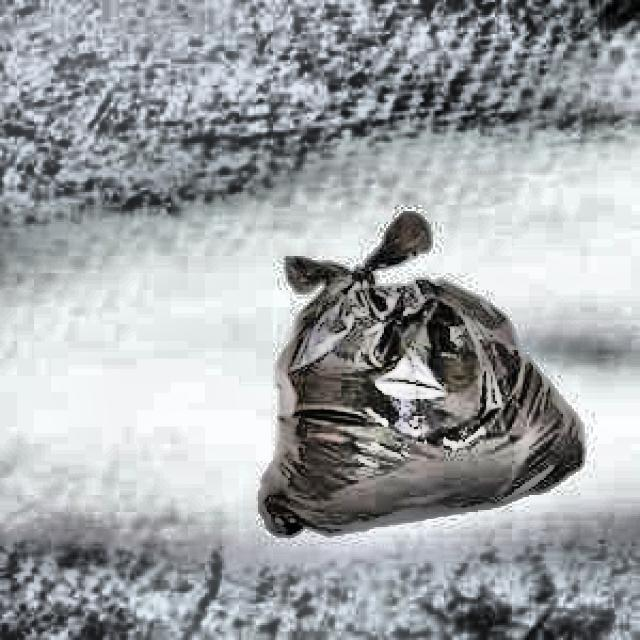Trashbag: (250, 201, 592, 553)
